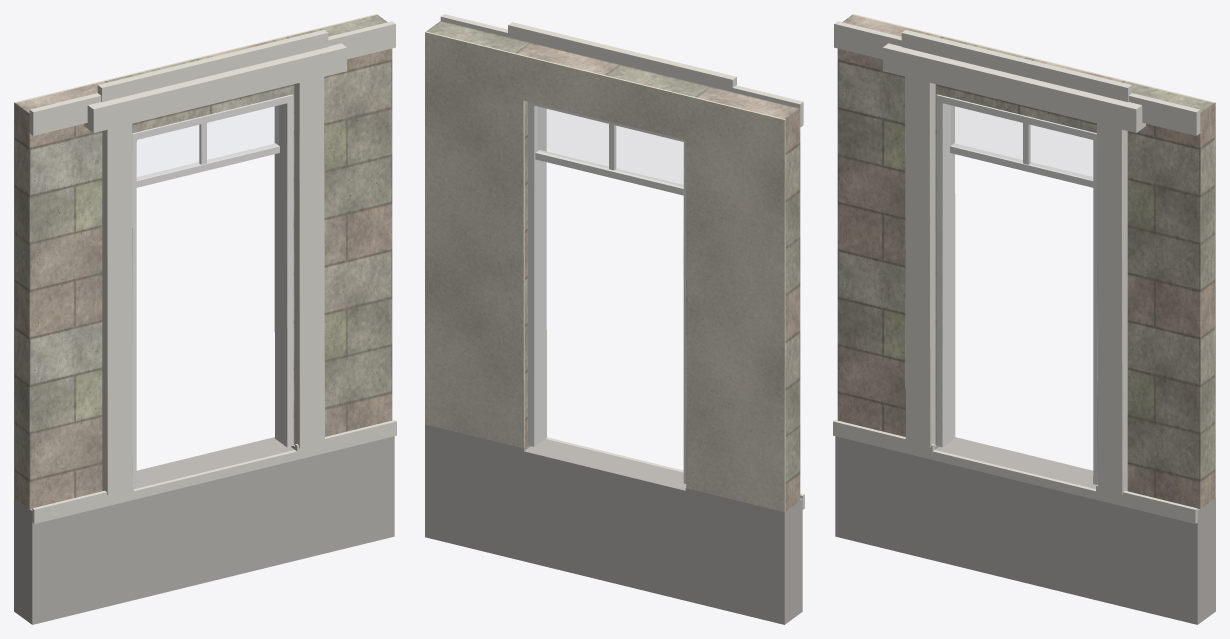
File: lib_wall_door.glb
3 renders of one model, left to right at view 1: azimuth 30°, elevation 25°; view 2: azimuth 150°, elevation 25°; view 3: azimuth 330°, elevation 25°, orthographic.
Visible parts, largest first — view 1: lib_wall_door_stone, lib_wall_door_cornice, lib_wall_door_granite, lib_wall_door_frame, lib_wall_door_glass, lib_wall_door_plaster; view 2: lib_wall_door_plaster, lib_wall_door_granite, lib_wall_door_stone, lib_wall_door_frame, lib_wall_door_glass, lib_wall_door_cornice; view 3: lib_wall_door_stone, lib_wall_door_cornice, lib_wall_door_granite, lib_wall_door_frame, lib_wall_door_glass, lib_wall_door_plaster.
Part boxes in pixels (x1,y1,x2,y2): lib_wall_door_stone: (15,15,392,508); lib_wall_door_cornice: (29,21,396,523); lib_wall_door_granite: (14,436,394,624); lib_wall_door_frame: (132,94,293,484); lib_wall_door_glass: (137,106,278,179); lib_wall_door_plaster: (14,14,377,497); lib_wall_door_plaster: (425,31,785,511); lib_wall_door_granite: (425,424,802,624); lib_wall_door_stone: (426,21,800,510); lib_wall_door_frame: (528,101,686,483); lib_wall_door_glass: (538,107,682,185); lib_wall_door_cornice: (440,14,804,509); lib_wall_door_stone: (837,15,1214,508); lib_wall_door_cornice: (833,21,1200,523); lib_wall_door_granite: (835,436,1215,624); lib_wall_door_frame: (936,94,1097,484); lib_wall_door_glass: (951,106,1092,179); lib_wall_door_plaster: (852,14,1215,497).
Size of the model in its own units: 4 by 5.5 by 0.48.
6 materials, 2 textured.
